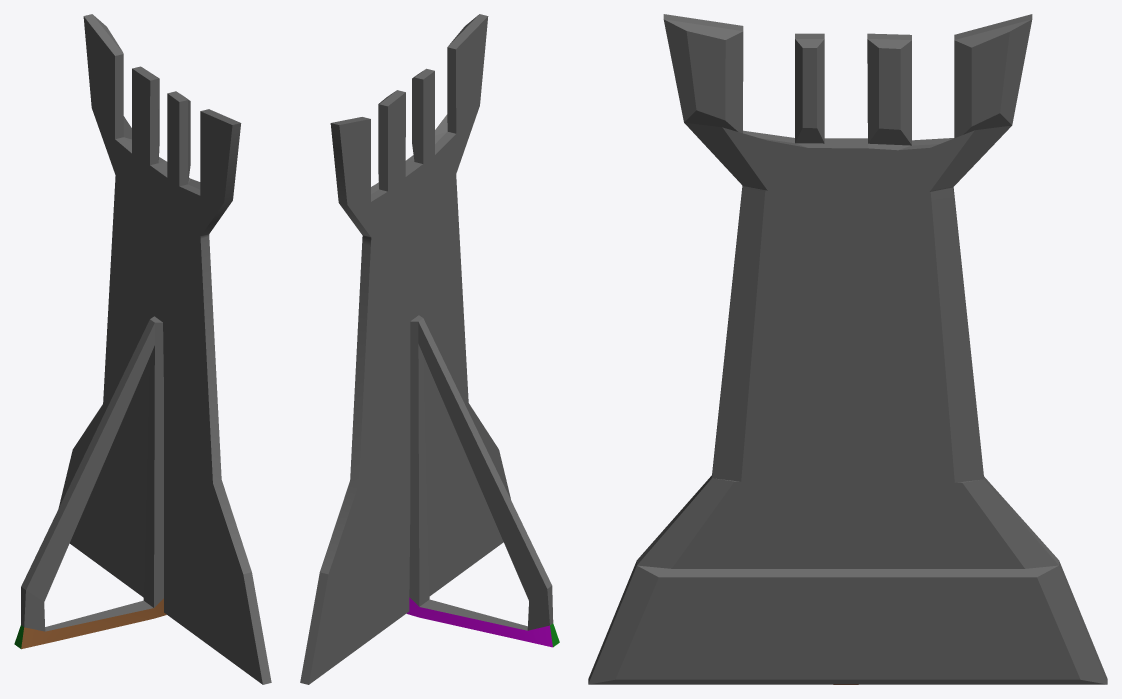
Rendered from Castle_Board.FBX.
3 renders of one model, left to right at view 1: azimuth 30°, elevation 25°; view 2: azimuth 150°, elevation 25°; view 3: azimuth 270°, elevation 25°, orthographic. The views are drawn at different scales.
Visible parts, largest first — view 1: Chess_Piece_Flat_With_Board, Back_Stand; view 2: Chess_Piece_Flat_With_Board, Back_Stand; view 3: Chess_Piece_Flat_With_Board.
Part boxes in pixels (<box>): Chess_Piece_Flat_With_Board: <box>58,14,271,684</box>; Back_Stand: <box>14,316,166,649</box>; Chess_Piece_Flat_With_Board: <box>300,14,510,684</box>; Back_Stand: <box>406,315,559,647</box>; Chess_Piece_Flat_With_Board: <box>588,14,1107,684</box>.
Bounding box in the file's own units: 22.41 × 73.4 × 51.58.
